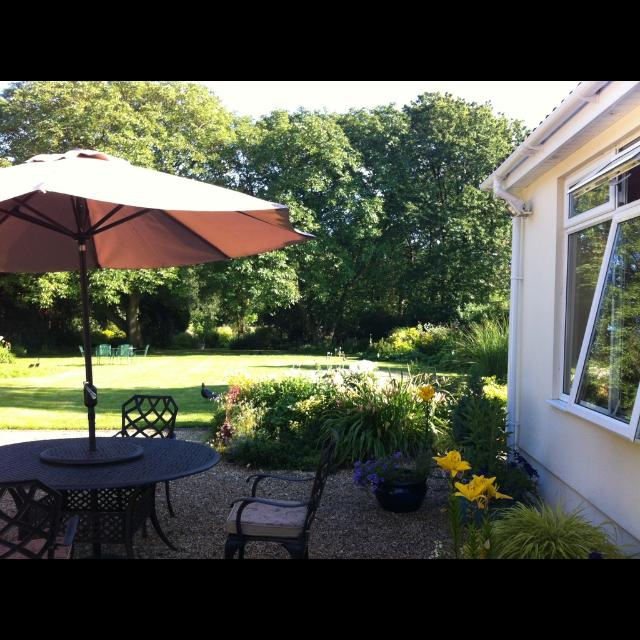Flower: (453, 474, 512, 504), (432, 449, 471, 473), (416, 385, 436, 401)
